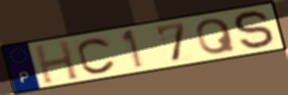1: (119, 28, 146, 70)
7: (154, 20, 188, 64)
C: (75, 36, 118, 75)
H: (33, 39, 81, 85)
Q: (194, 17, 238, 56)
S: (232, 9, 276, 52)
